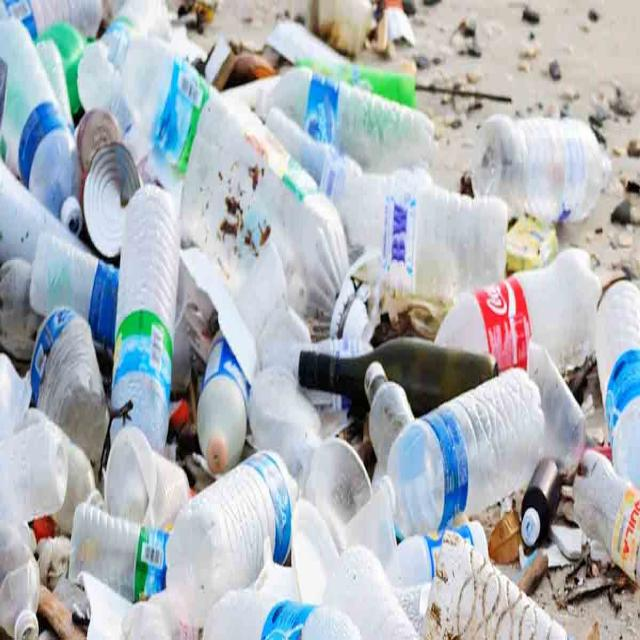glass: (297, 334, 491, 409)
metal: (518, 444, 566, 558)
plastic: (118, 194, 174, 438)
